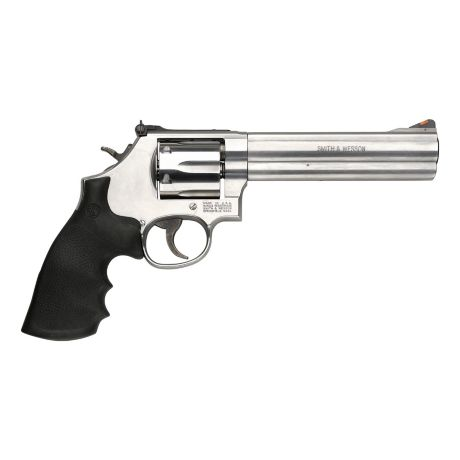Revolver: (7, 99, 441, 347)
